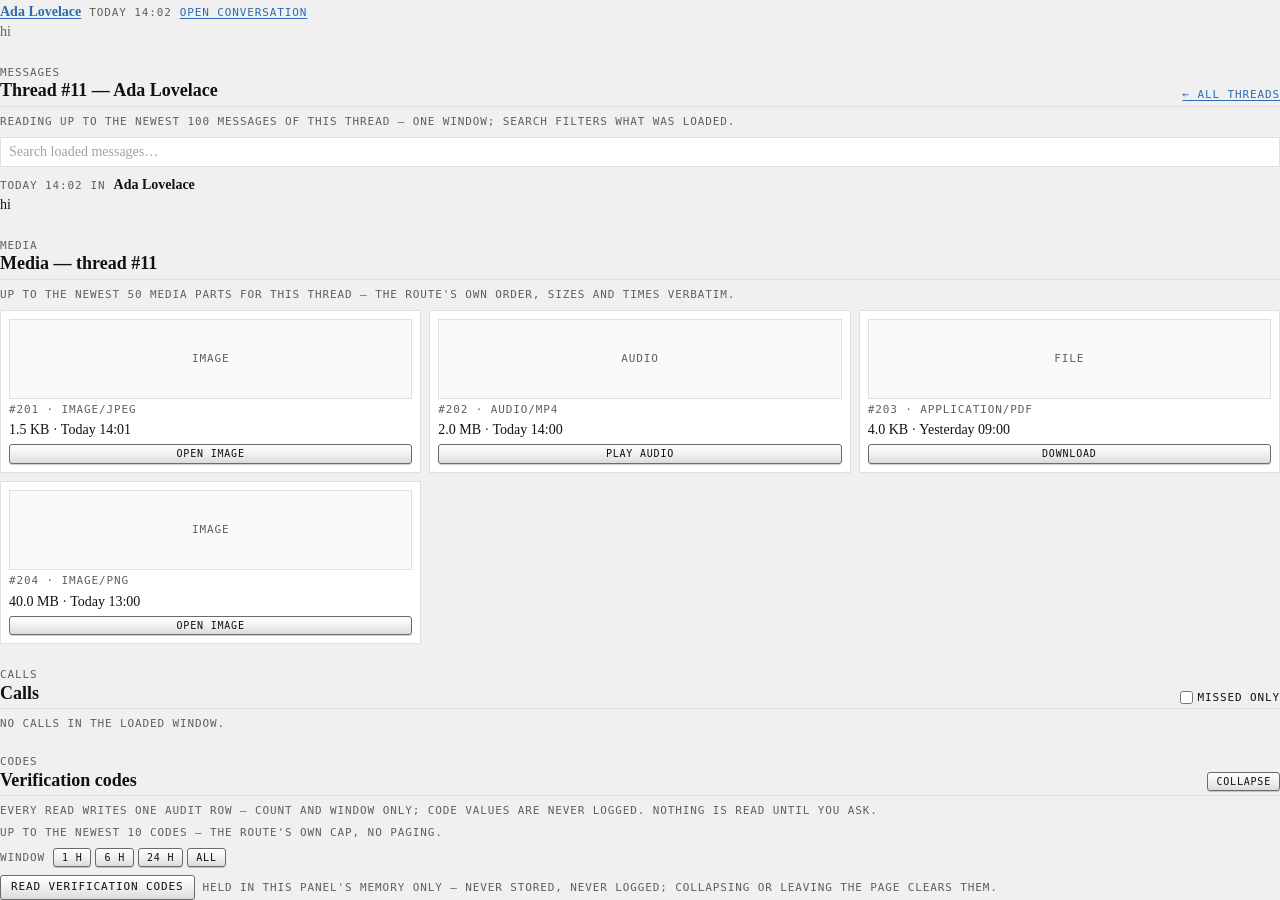
Scenario: phone media viewer (frozen GET /phone/media/{part_id}) › an oversized part is stated, offered as a download, and NOT auto-fetched
This screenshot has width=1280, height=900.
(page scrolled)
Check: the list with test id "phone-media-list" is shown, box x1=0 y1=310 x2=1279 y2=644
Click the button with aria-label "Open image part #204" at (211, 625), box x1=9 y1=616 x2=412 y2=635
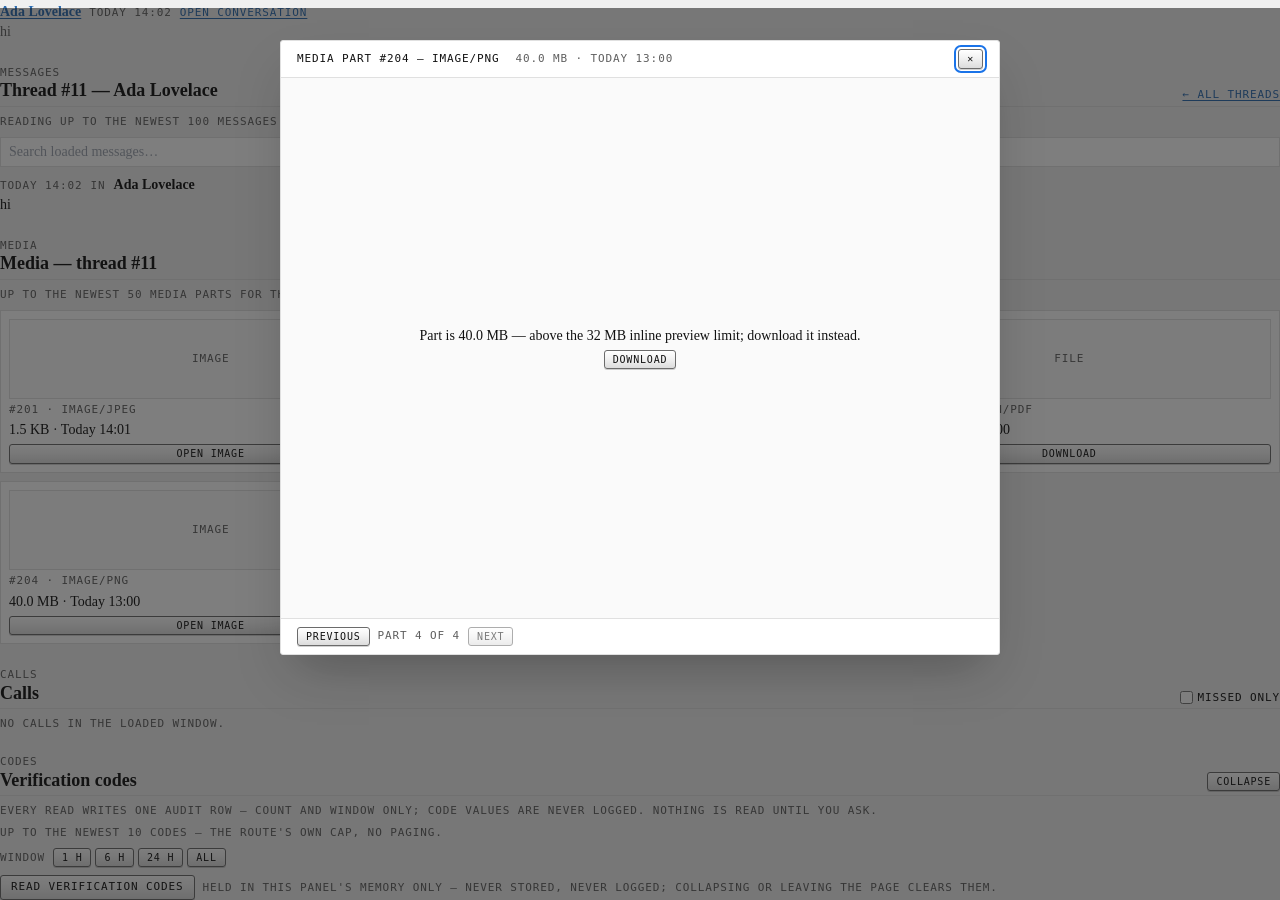
Check: the text with test id "phone-media-oversized" shows "40.0 MB", box x1=420 y1=328 x2=860 y2=342
Check: the text with test id "phone-media-oversized" shows "32 MB", box x1=420 y1=328 x2=860 y2=342
Check: the button with aria-label "Download part #204" is shown, box x1=604 y1=350 x2=676 y2=369
